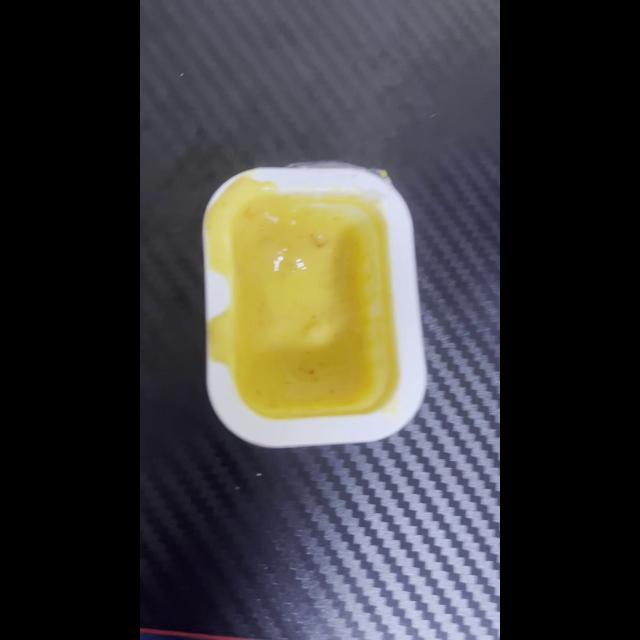dirty: (211, 159, 423, 447)
